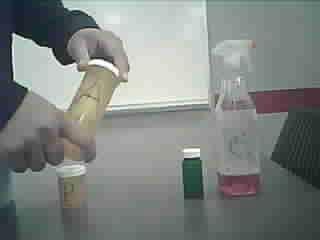Bottle A: (58, 52, 126, 162)
Bottle B: (55, 163, 90, 220)
Bottle C: (179, 144, 208, 206)
hazard: (210, 37, 272, 202)
